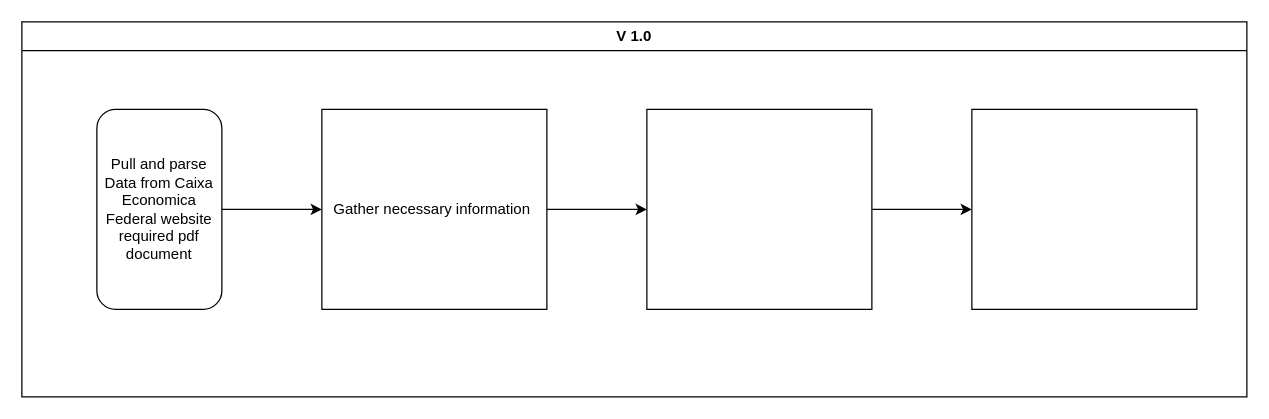
The diagram is 1269 pixels wide and 419 high, and some of its shapes have lost their labels. The shapes that lost their labels are listed below. From the top down, each one's centre as x and y in pixels, then its label:
At point (759, 208): "QA".
At point (1084, 208): "Inject the extracted data into an CSV given by the user".
